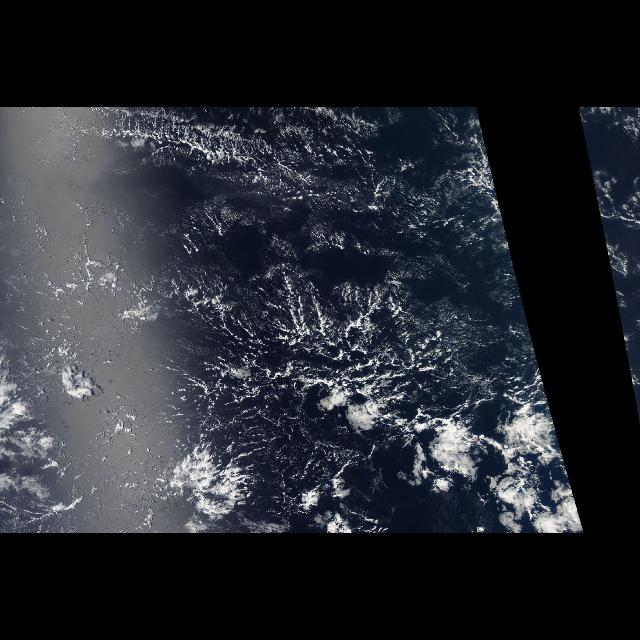Fish: (155, 278, 588, 534)
Gravel: (108, 115, 548, 530)
Sugar: (65, 154, 519, 348)
